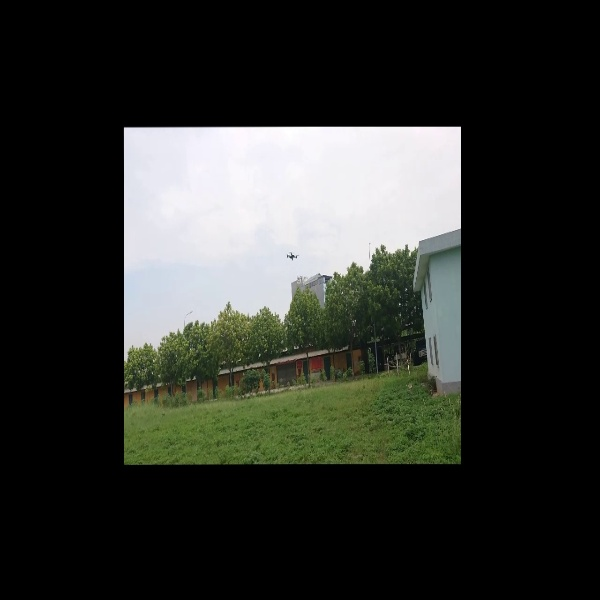drone: (284, 247, 304, 265)
